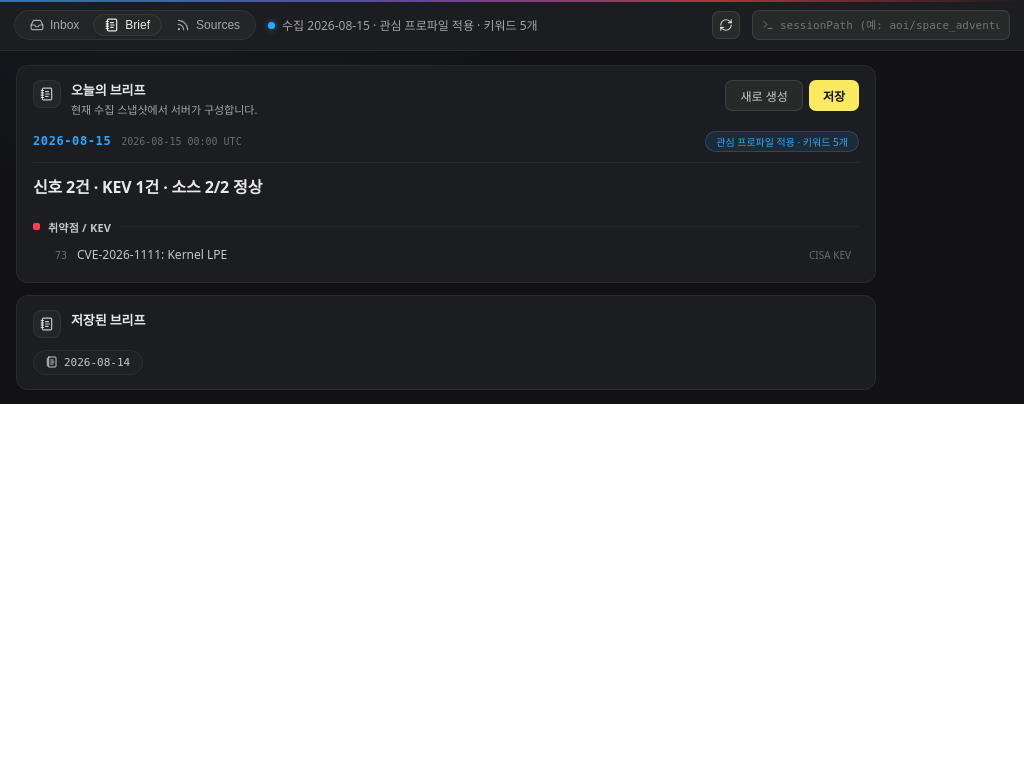
Test case: saved briefs › lists date-named files only and opens a valid saved brief
Expected: the element with test id "signal-desk" is shown, 0,0 -> 1023,404
Click the button with test id "signal-desk-saved-2026-08-14.json".
click(88, 362)  # box 33,350 -> 143,374
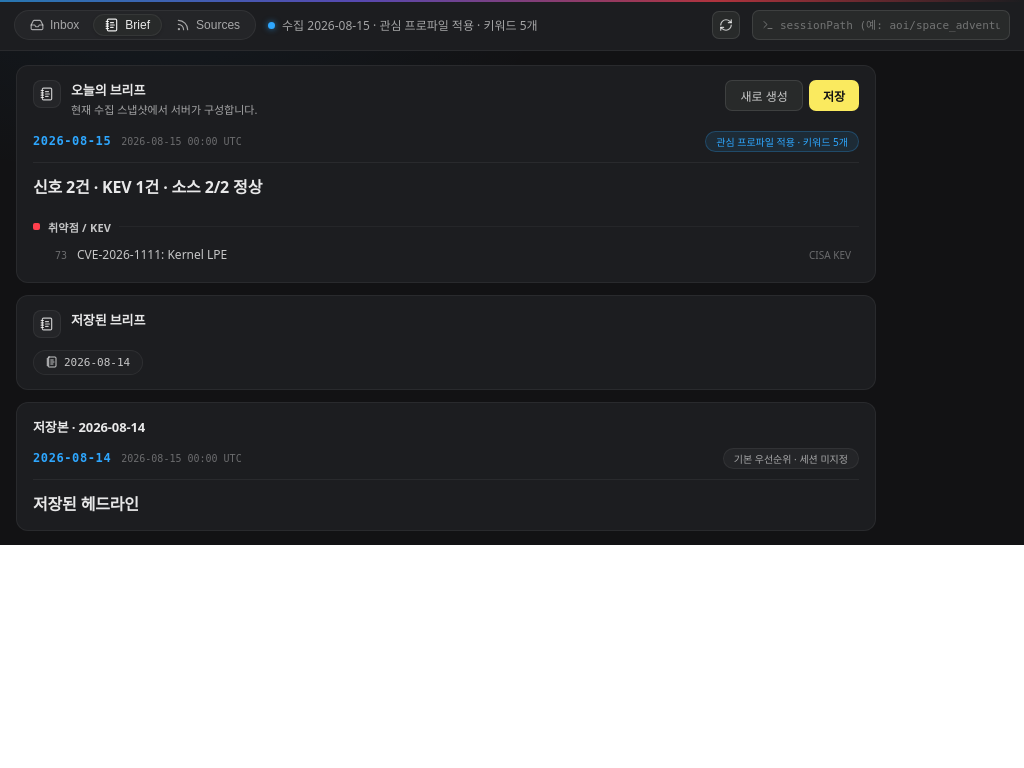
Expected: the text "저장된 헤드라인" is shown, 33,492 -> 139,514
